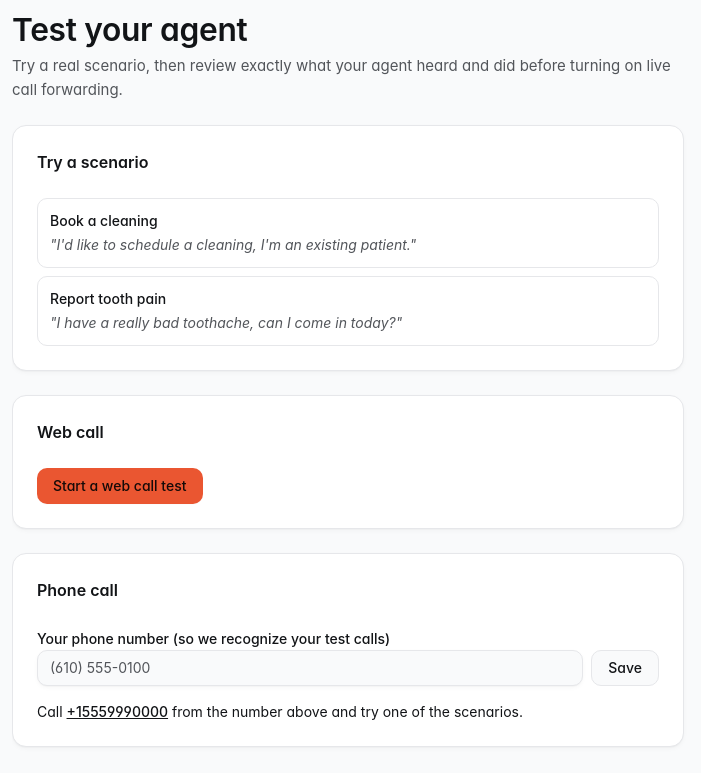
Test: TestAgentClient › establishes a browser audio session with the token the backend returns
The image size is (701, 773).
Click the button "Start a web call test": [120, 486] box [37, 468, 202, 504]
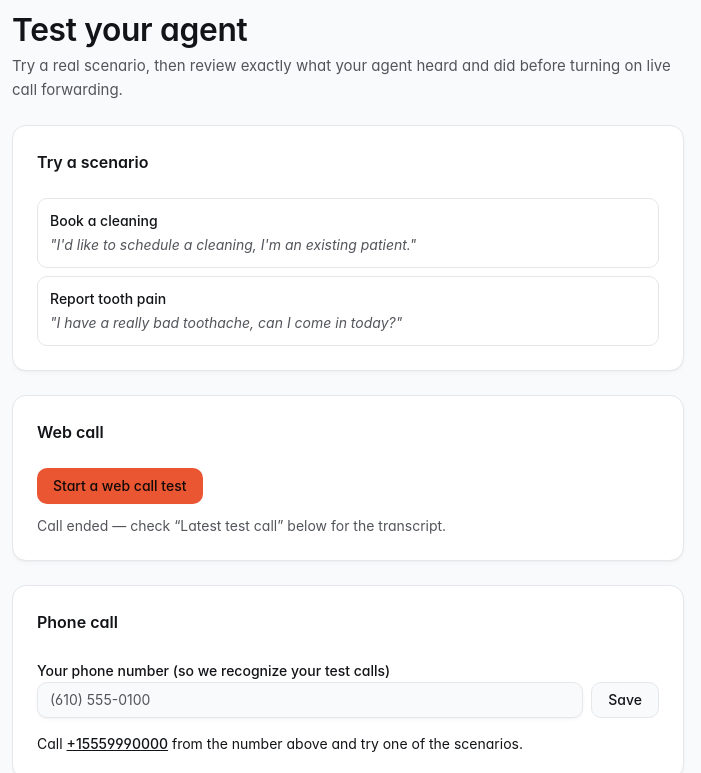
Expected: the text "Call ended" is shown, [37, 517, 446, 534]
